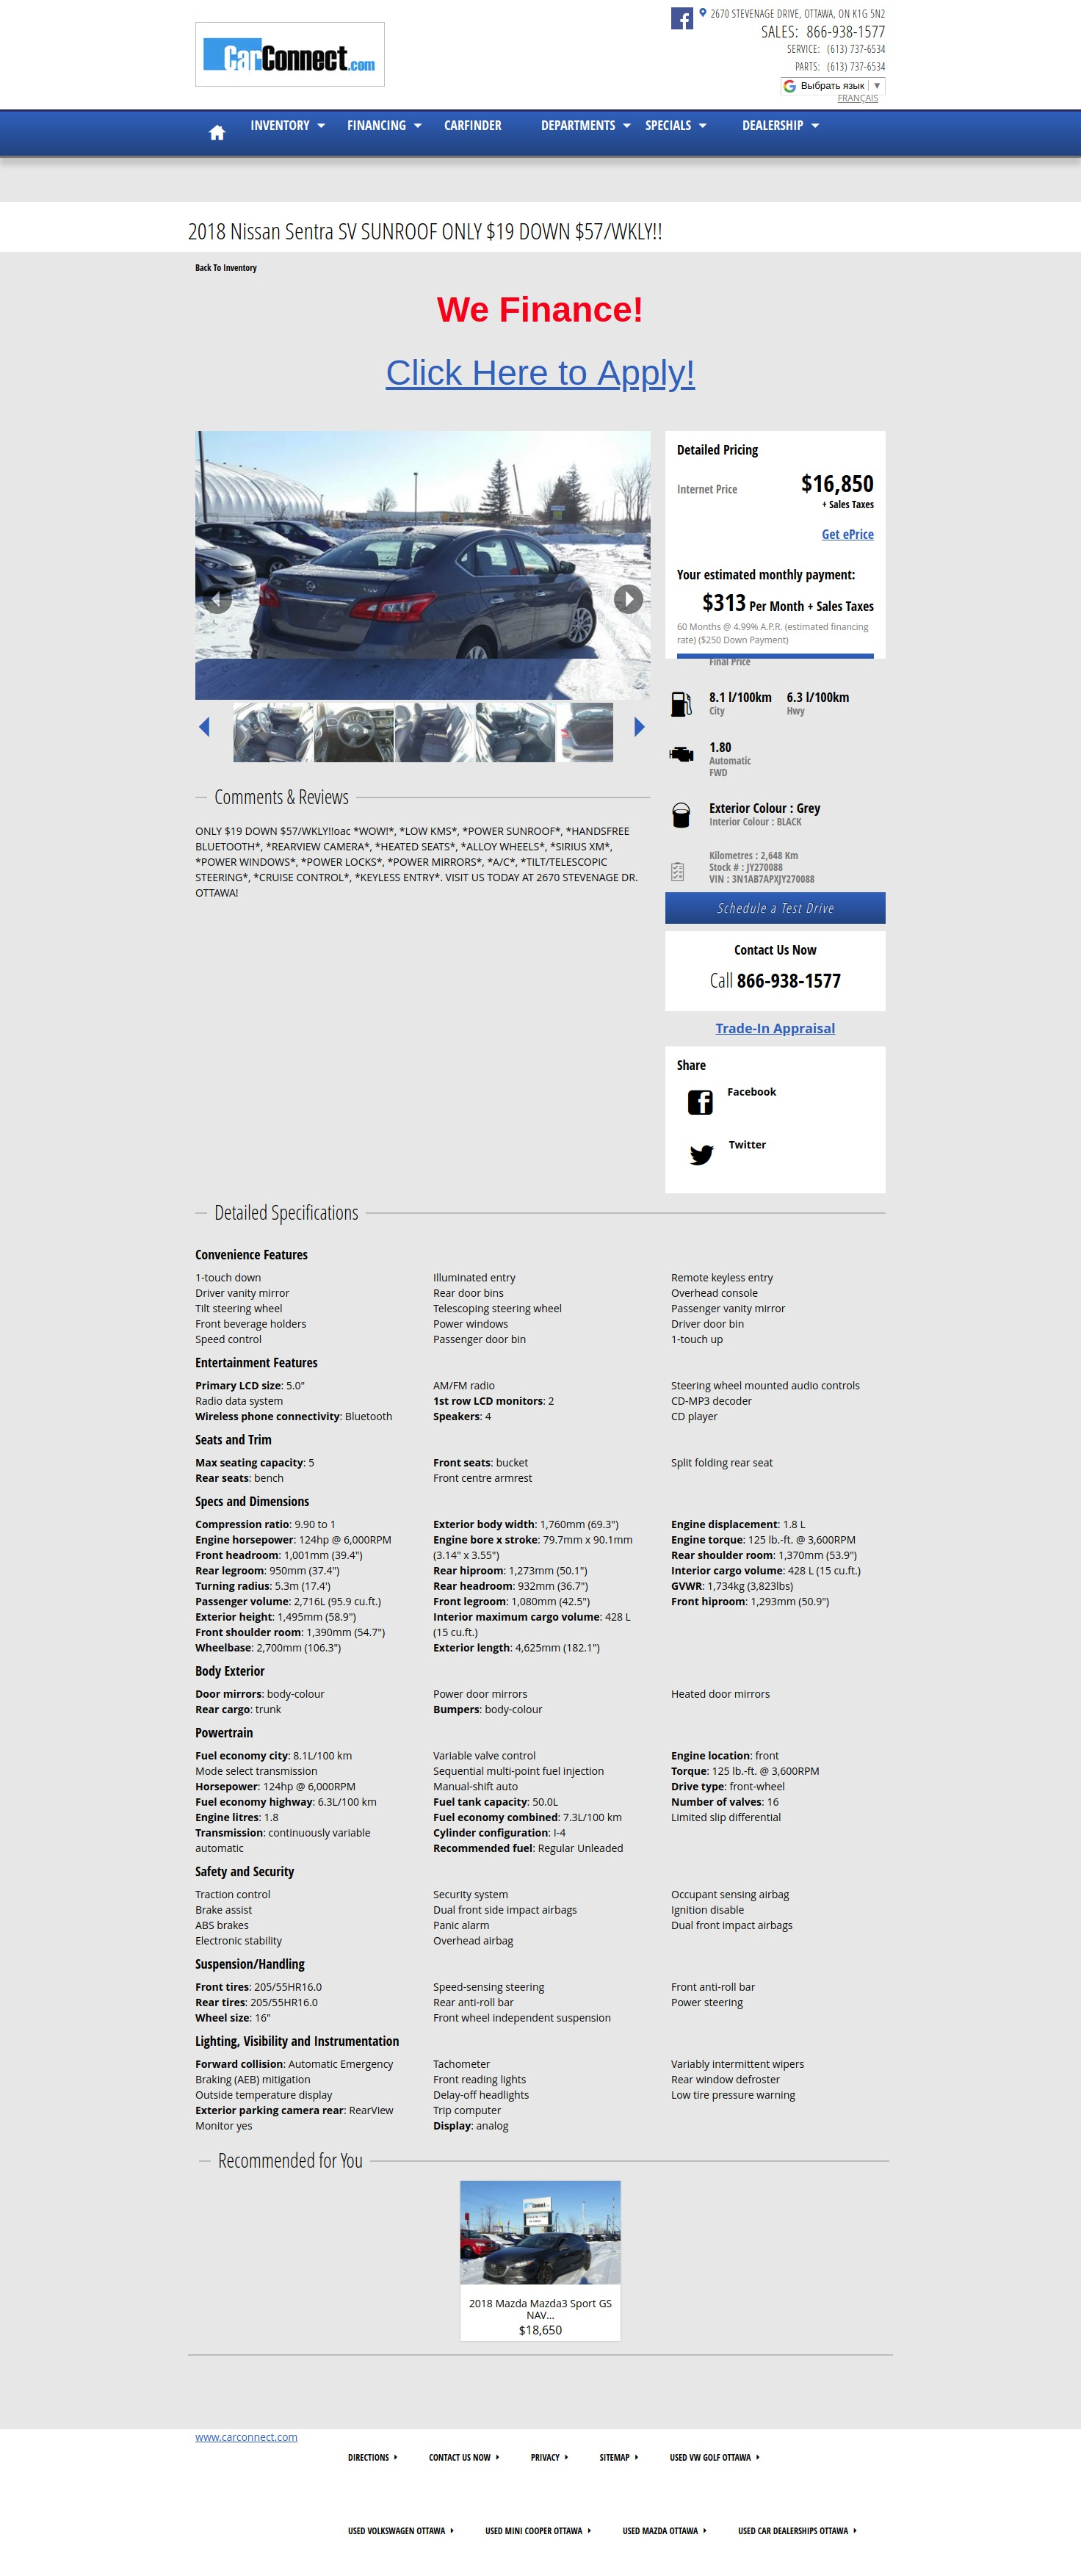car: (631, 713, 649, 741)
